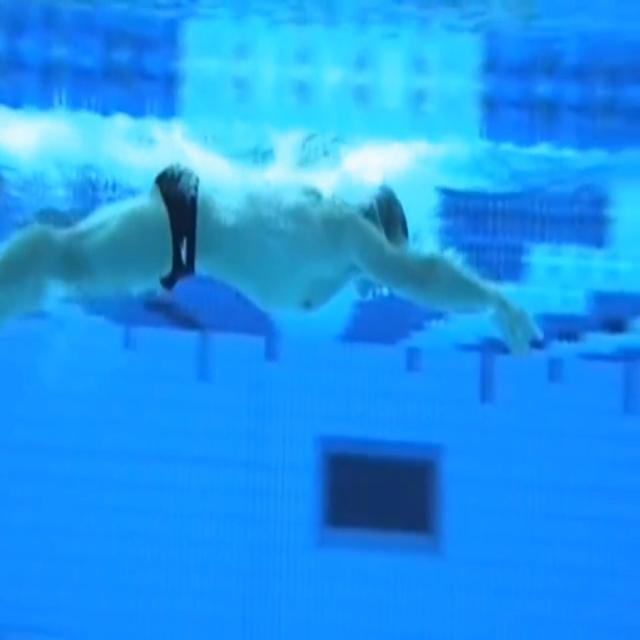Swimming: (0, 159, 545, 362)
